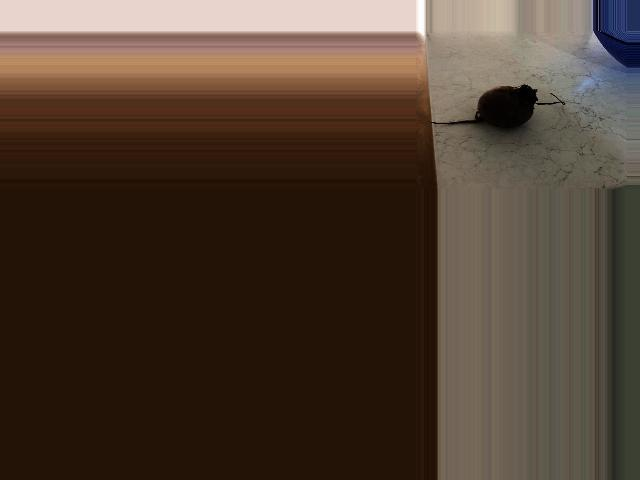beet: (426, 85, 564, 127)
